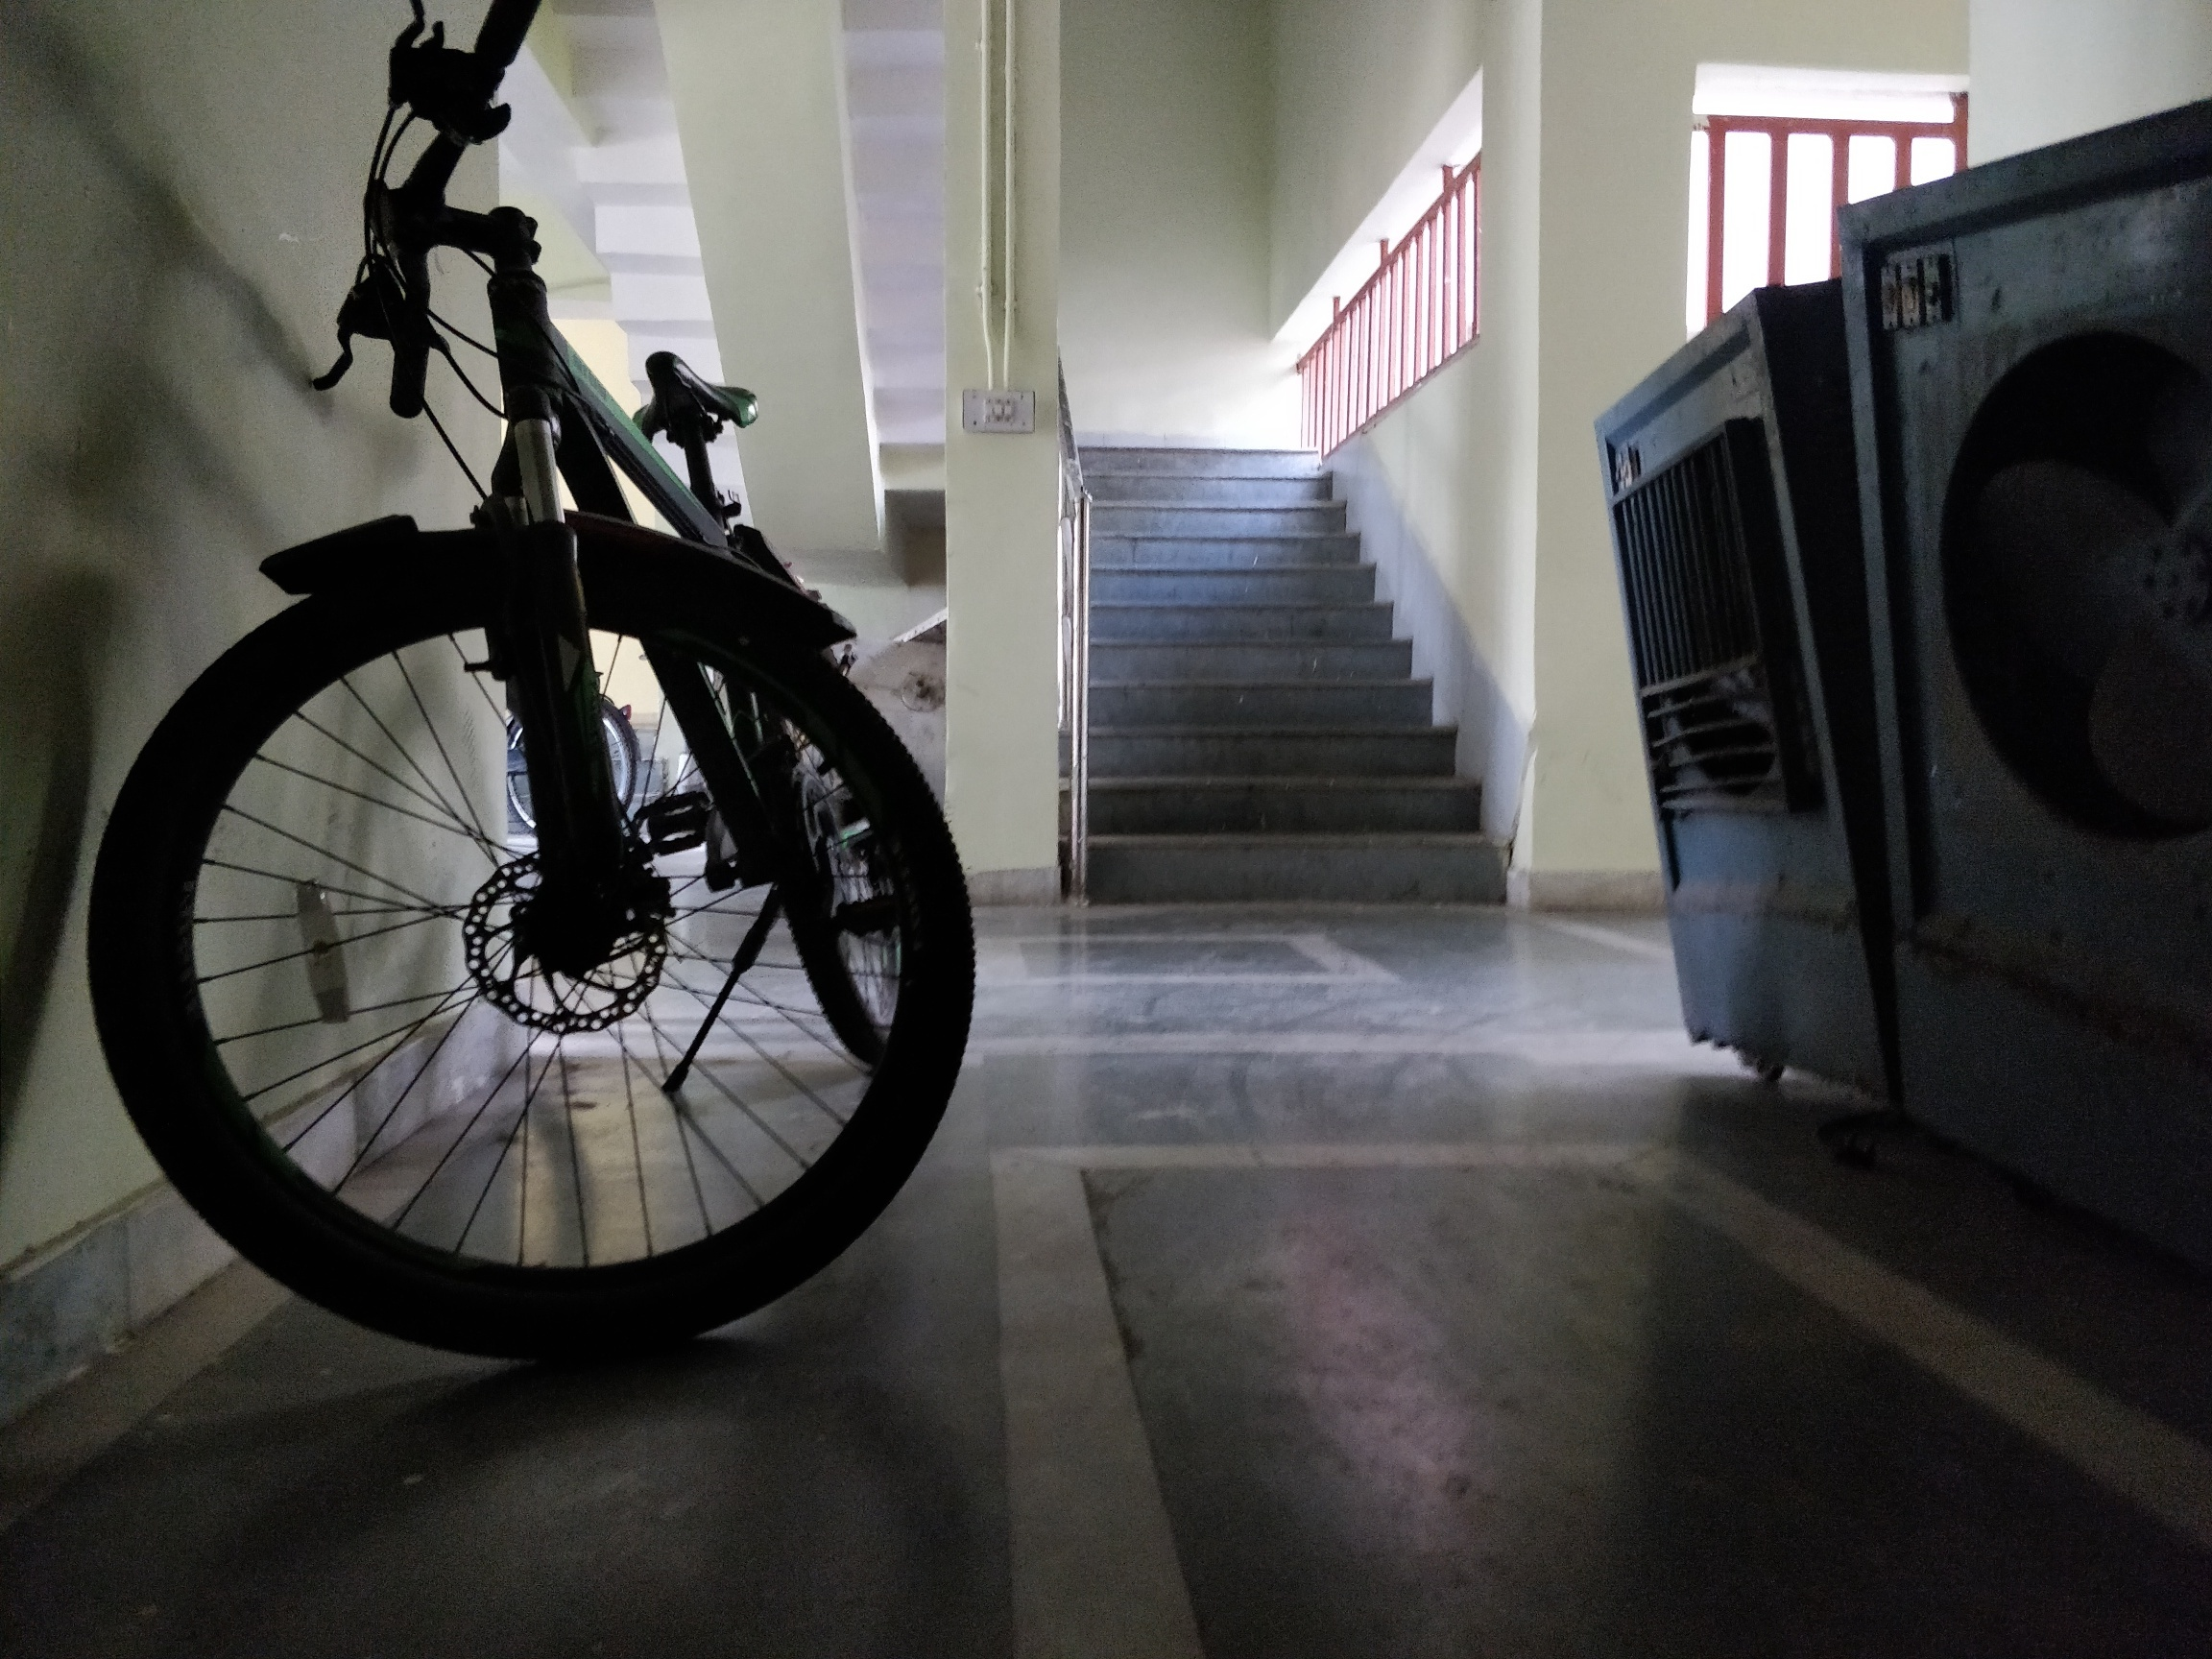stairs_up: (1075, 450, 1507, 925)
